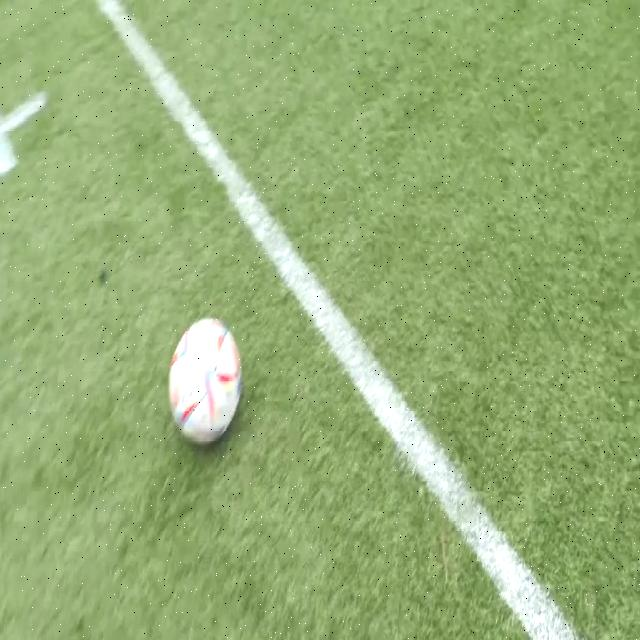ball: (168, 318, 242, 444)
